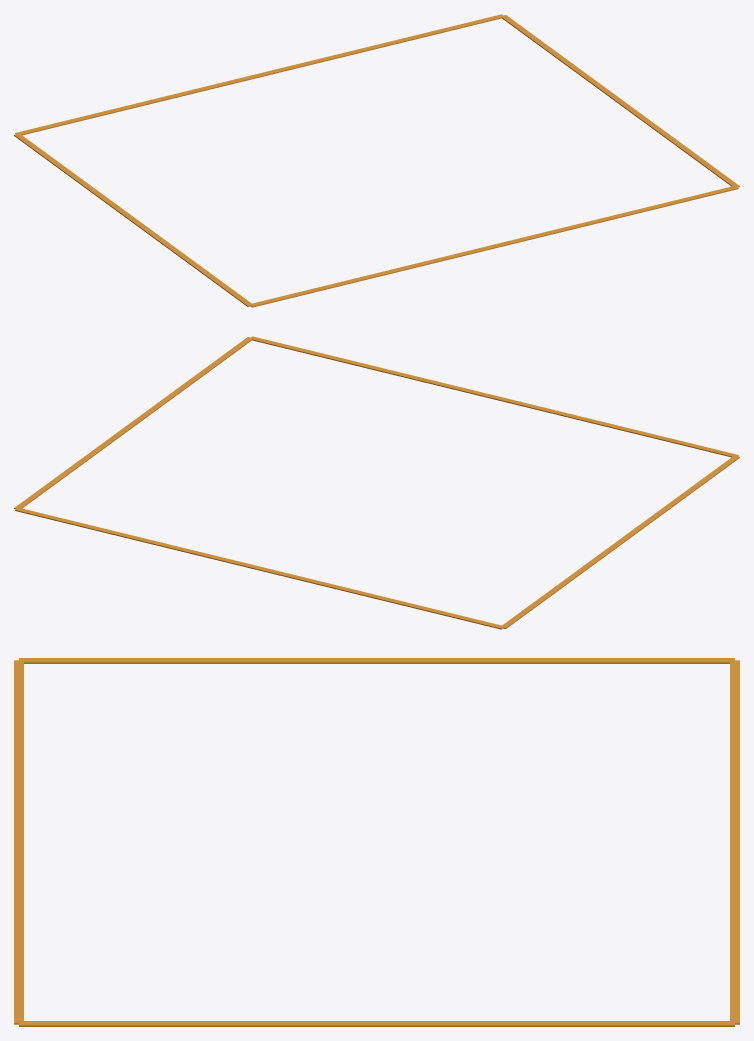
The model's file is CC_S16_P2_Architecture_ZoneReceiving_LOD0.fbx.
3 views of the same model, one above another, from view 1: azimuth 30°, elevation 25°; view 2: azimuth 150°, elevation 25°; view 3: azimuth 270°, elevation 25° (orthographic). The views are drawn at different scales.
Visible parts, largest first — view 1: CC_S16_P2_Architecture_ZoneReceiving_LOD0_Line, CC_S16_P2_Architecture_ZoneReceiving_LOD0_Line.001, CC_S16_P2_Architecture_ZoneReceiving_LOD0_Line.002, CC_S16_P2_Architecture_ZoneReceiving_LOD0_Line.003; view 2: CC_S16_P2_Architecture_ZoneReceiving_LOD0_Line.001, CC_S16_P2_Architecture_ZoneReceiving_LOD0_Line, CC_S16_P2_Architecture_ZoneReceiving_LOD0_Line.002, CC_S16_P2_Architecture_ZoneReceiving_LOD0_Line.003; view 3: CC_S16_P2_Architecture_ZoneReceiving_LOD0_Line.003, CC_S16_P2_Architecture_ZoneReceiving_LOD0_Line.002, CC_S16_P2_Architecture_ZoneReceiving_LOD0_Line, CC_S16_P2_Architecture_ZoneReceiving_LOD0_Line.001.
Part boxes in pixels (x1,y1,x2,y2): CC_S16_P2_Architecture_ZoneReceiving_LOD0_Line: (250,185,738,307); CC_S16_P2_Architecture_ZoneReceiving_LOD0_Line.001: (15,14,504,135); CC_S16_P2_Architecture_ZoneReceiving_LOD0_Line.002: (14,133,252,306); CC_S16_P2_Architecture_ZoneReceiving_LOD0_Line.003: (501,15,739,187); CC_S16_P2_Architecture_ZoneReceiving_LOD0_Line.001: (15,507,503,629); CC_S16_P2_Architecture_ZoneReceiving_LOD0_Line: (249,336,738,457); CC_S16_P2_Architecture_ZoneReceiving_LOD0_Line.002: (500,456,739,628); CC_S16_P2_Architecture_ZoneReceiving_LOD0_Line.003: (14,337,252,509); CC_S16_P2_Architecture_ZoneReceiving_LOD0_Line.003: (19,1021,734,1026); CC_S16_P2_Architecture_ZoneReceiving_LOD0_Line.002: (19,658,734,663); CC_S16_P2_Architecture_ZoneReceiving_LOD0_Line: (14,660,23,1024); CC_S16_P2_Architecture_ZoneReceiving_LOD0_Line.001: (730,660,739,1024).
Size of what is drawn, in the model's own units: 3.04 by 0.006 by 2.54.
